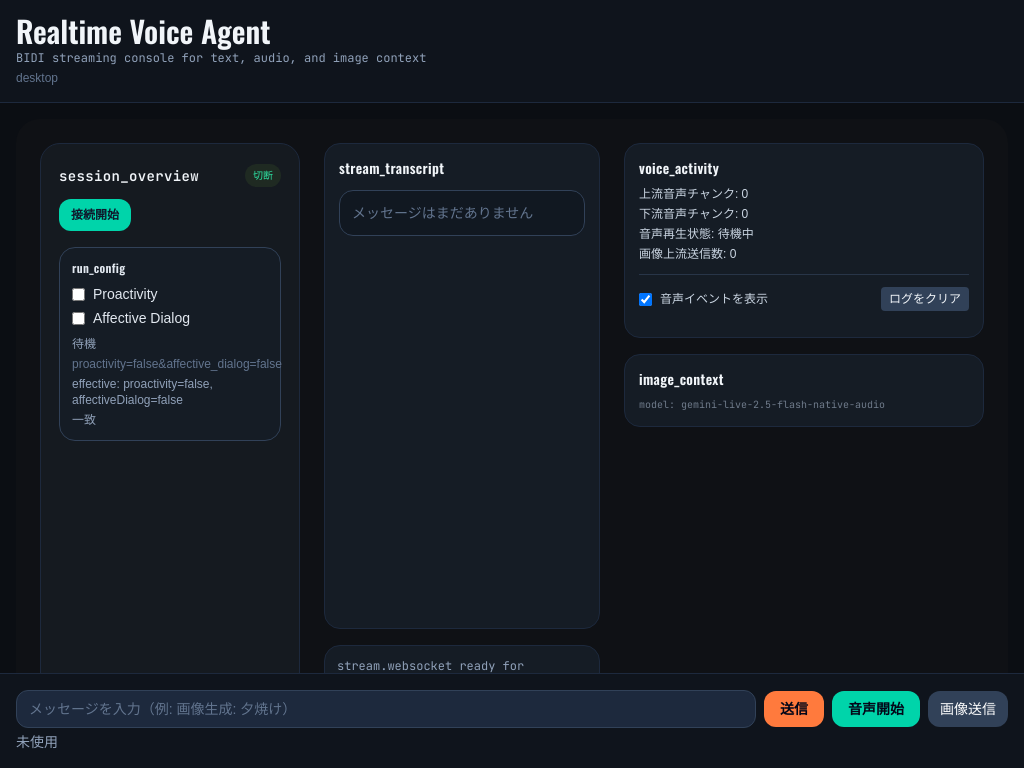
Test case: App shell › visually distinguishes notification events from conversation events in event console
The image size is (1024, 768).
Click the button "接続開始". click: (95, 215)
box: [59,199,131,231]
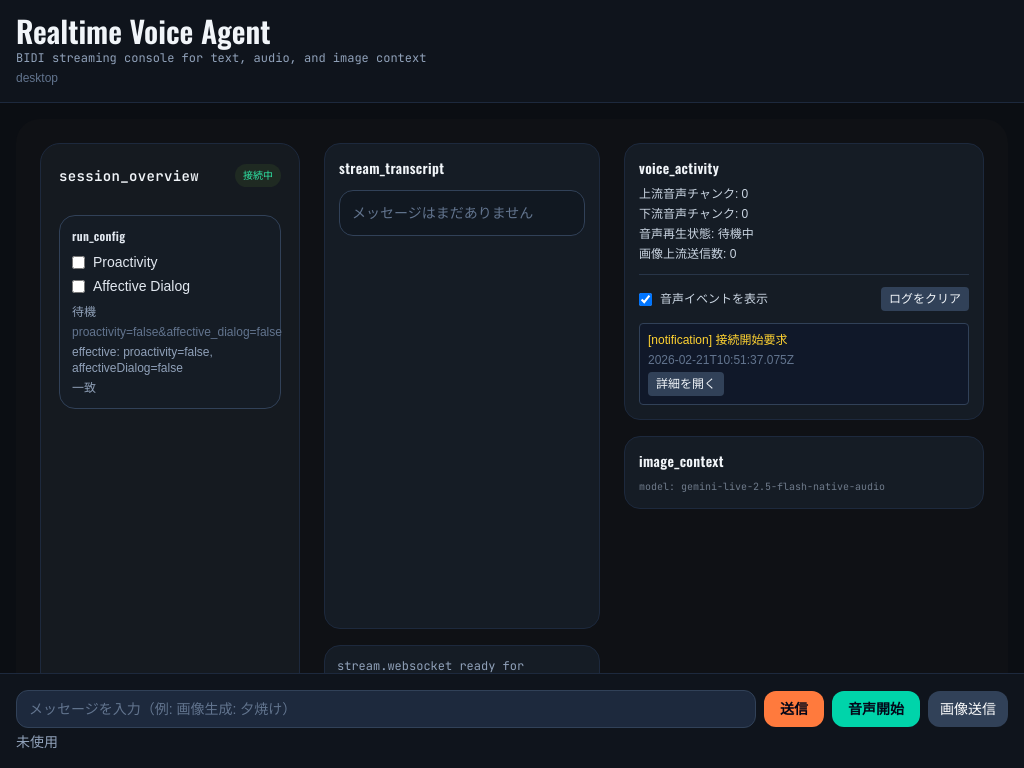
Type "会話イベント" into the field named "テキスト入力". click: (386, 709)
box: [16,690,756,728]
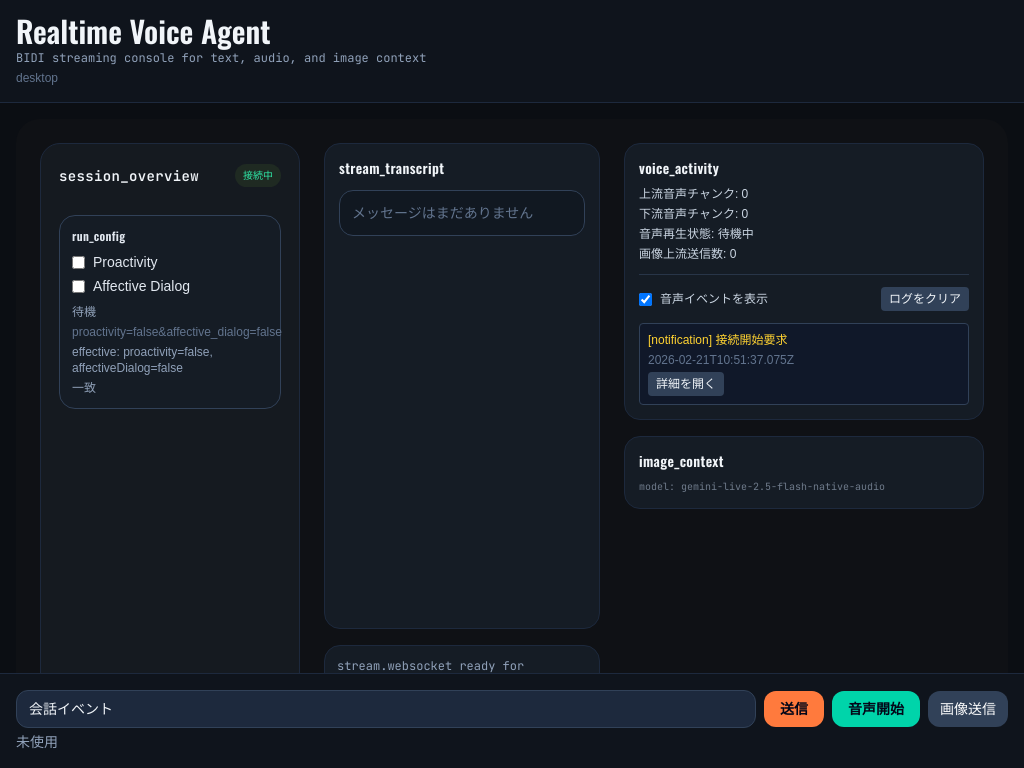
Click the button "送信". click: (794, 709)
box: [764,691,824,727]
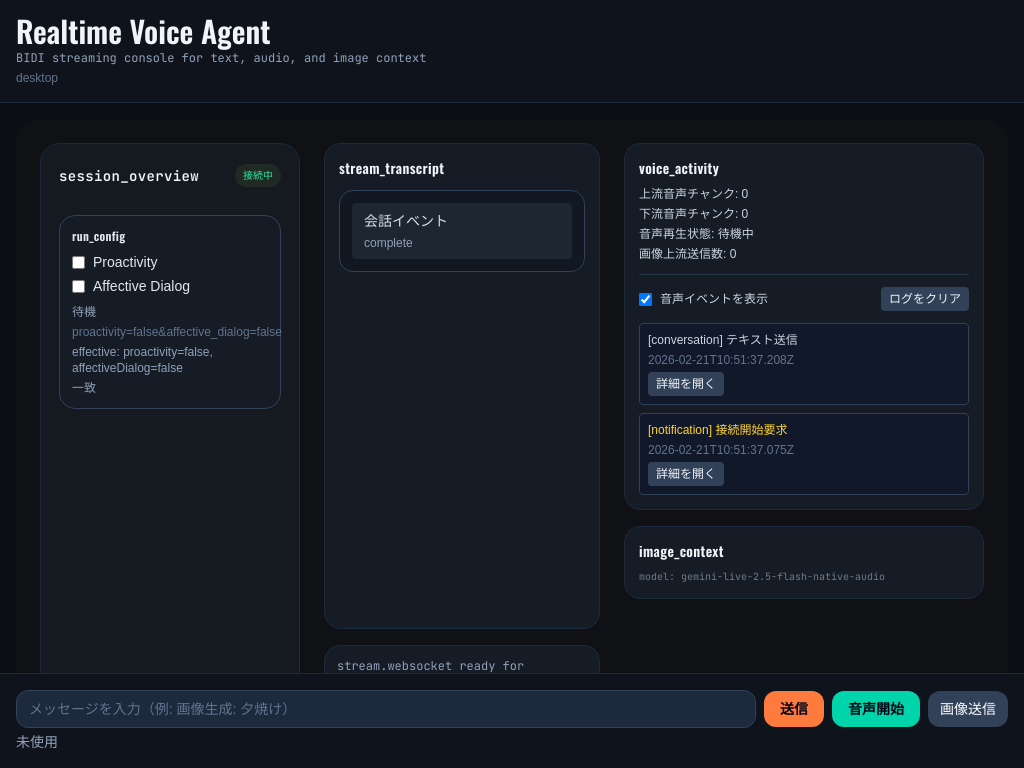
Now the text "[notification] 接続開始要求" is shown, box [648,423,787,437]
Now the text "[conversation] テキスト送信" is shown, box [648,333,798,347]
